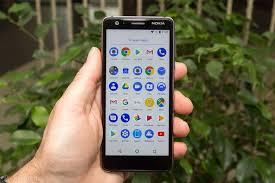nokia: (100, 11, 175, 175)
